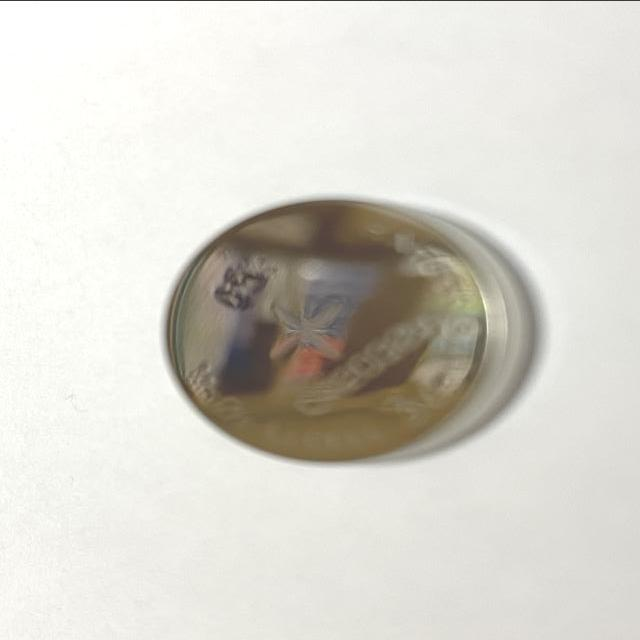COIN: (162, 196, 537, 464)
